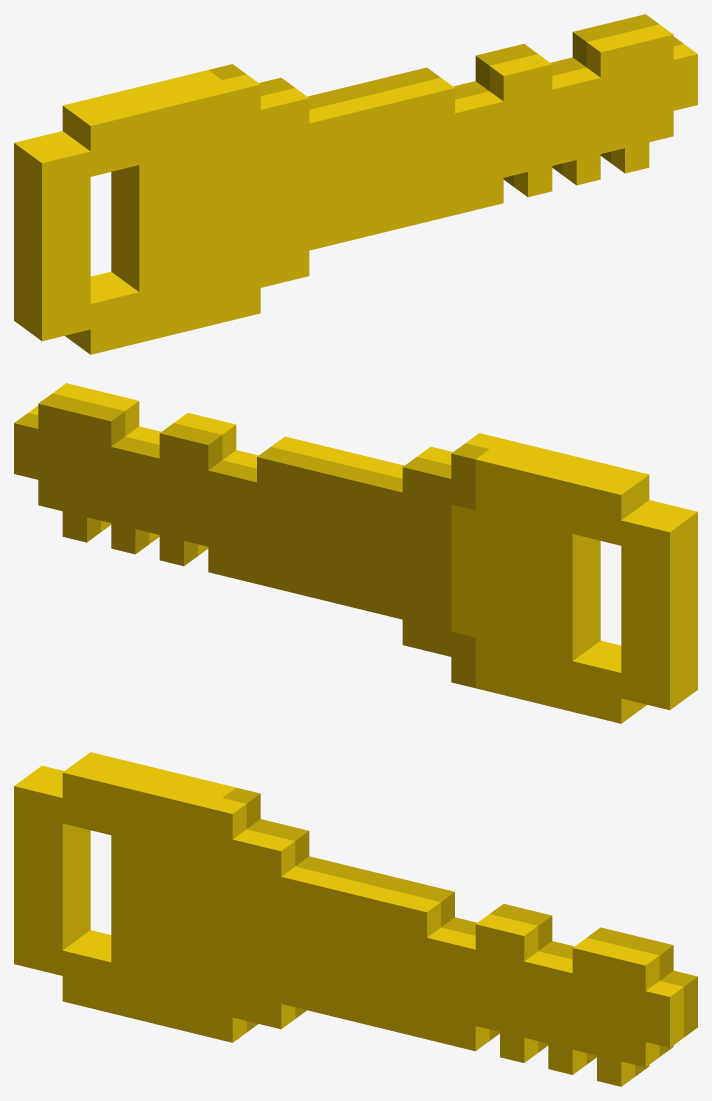
File: key5.glb
3 renders of one model, top to bottom at view 1: azimuth 30°, elevation 25°; view 2: azimuth 150°, elevation 25°; view 3: azimuth 330°, elevation 25°, orthographic.
Visible parts, largest first — view 1: Untitled; view 2: Untitled; view 3: Untitled.
Boxes of the visible parts, x1=… form: Untitled: x1=14, y1=14, x2=697, y2=354; Untitled: x1=14, y1=383, x2=697, y2=723; Untitled: x1=14, y1=752, x2=697, y2=1086.
Bounding box in the file's own units: 2.7 × 0.9 × 0.2.
Materials: 1 (1 with a texture image).
